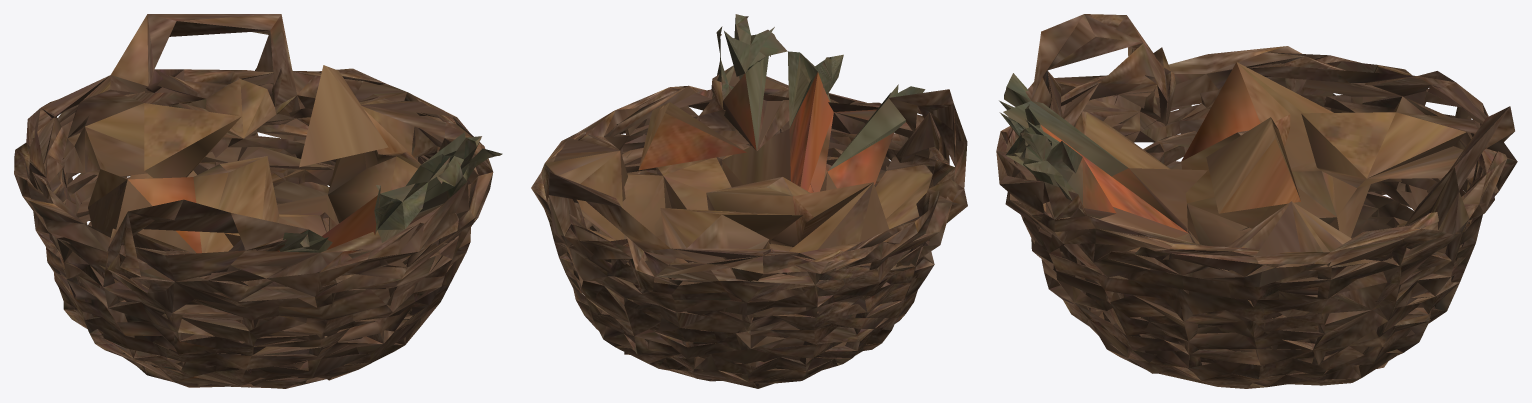
The model's file is k_basket_veg.glb.
3 views of the same model, side by side, from view 1: azimuth 30°, elevation 25°; view 2: azimuth 150°, elevation 25°; view 3: azimuth 270°, elevation 25° (orthographic). The views are drawn at different scales.
Visible parts, largest first — view 1: k_basket_veg; view 2: k_basket_veg; view 3: k_basket_veg.
Boxes of the visible parts, <box> form: k_basket_veg: <box>14,14,502,388</box>; k_basket_veg: <box>531,14,967,388</box>; k_basket_veg: <box>996,14,1517,388</box>.
Size of the model in its own units: 0.5459 by 0.32 by 0.5704.
1 material, 1 textured.
